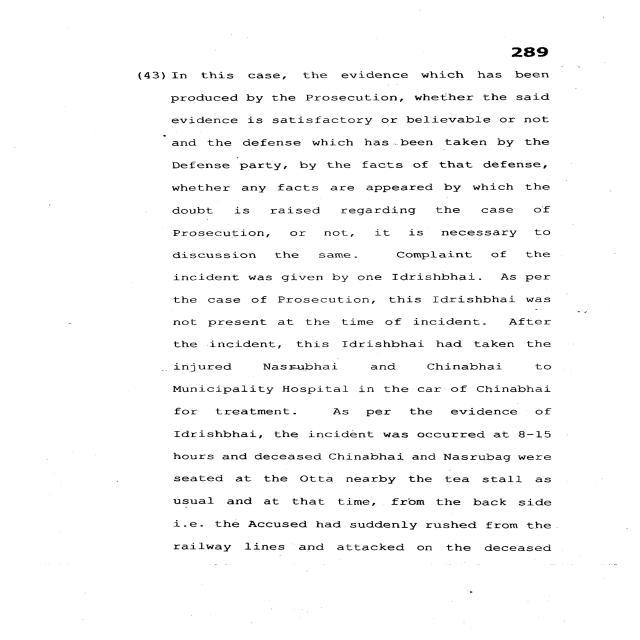page-number: (435, 1, 635, 61)
